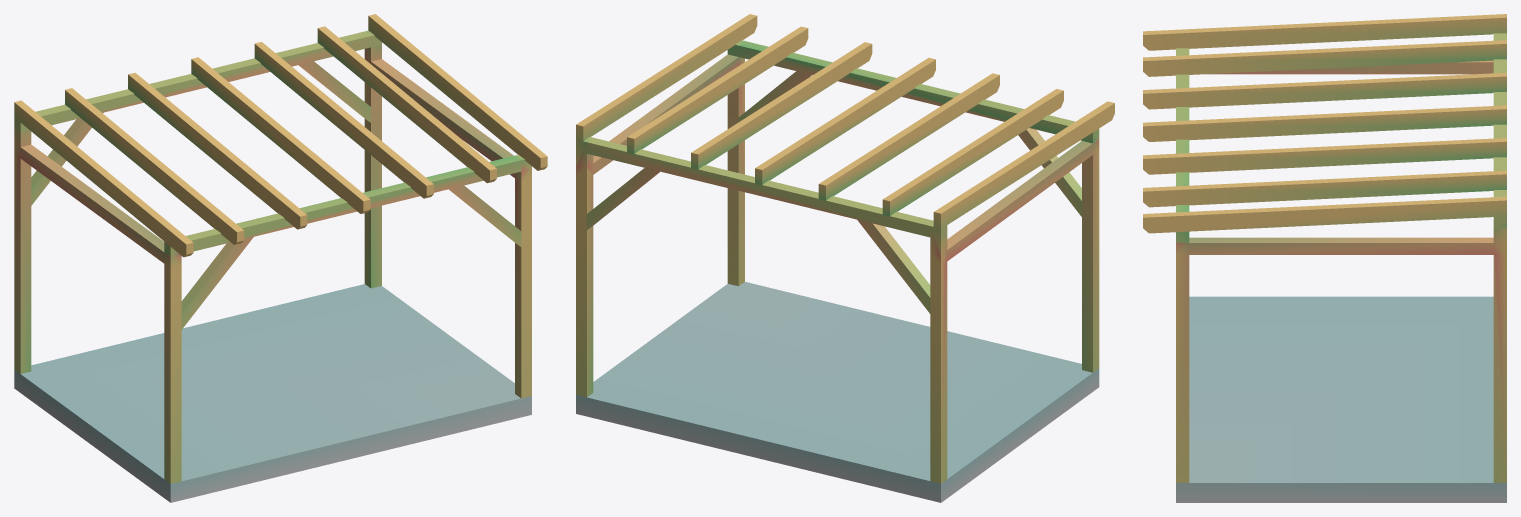
3 views of the same model, side by side, from view 1: azimuth 30°, elevation 25°; view 2: azimuth 150°, elevation 25°; view 3: azimuth 270°, elevation 25° (orthographic). The views are drawn at different scales.
Parts seen in each view (by area): view 1: slab, post, post.001, header, header.001, rafter, rafter.006, rafter.001, rafter.005, rafter.004, rafter.002, rafter.003; view 2: slab, post, post.001, header.001, header, rafter, rafter.003, rafter.001, rafter.002, rafter.005, rafter.006, rafter.004; view 3: slab, post.001, rafter.001, rafter.002, rafter.005, rafter, rafter.004, rafter.006, rafter.003, post, header, header.001.
Part boxes in pixels (x1,y1,x2,y2): slab: (14, 284, 531, 502); post: (14, 128, 181, 483); post.001: (364, 30, 531, 398); header: (164, 155, 521, 329); header.001: (14, 31, 381, 205); rafter: (14, 100, 193, 257); rafter.006: (317, 26, 496, 183); rafter.001: (368, 14, 547, 170); rafter.005: (254, 42, 433, 198); rafter.004: (191, 57, 370, 213); rafter.002: (65, 88, 244, 244); rafter.003: (128, 72, 307, 229); slab: (576, 282, 1099, 502); post: (930, 139, 1099, 483); post.001: (576, 40, 744, 397); header.001: (587, 137, 947, 313); header: (727, 41, 1099, 216); rafter: (933, 101, 1114, 228); rafter.003: (818, 73, 999, 200); rafter.001: (576, 14, 757, 141); rafter.002: (882, 89, 1063, 216); rafter.005: (691, 42, 872, 169); rafter.006: (627, 26, 808, 153); rafter.004: (755, 57, 935, 185); slab: (1176, 296, 1506, 502); post.001: (1176, 228, 1506, 482); rafter.001: (1143, 196, 1506, 233); rafter.002: (1143, 40, 1506, 76); rafter.005: (1143, 138, 1506, 174); rafter: (1143, 14, 1506, 50); rafter.004: (1143, 105, 1506, 141); rafter.006: (1143, 170, 1506, 207); rafter.003: (1143, 72, 1506, 109); post: (1176, 33, 1506, 74); header: (1176, 50, 1189, 242); header.001: (1493, 35, 1506, 227).
Bounding box in the file's own units: 3 × 2.27 × 2.47.
